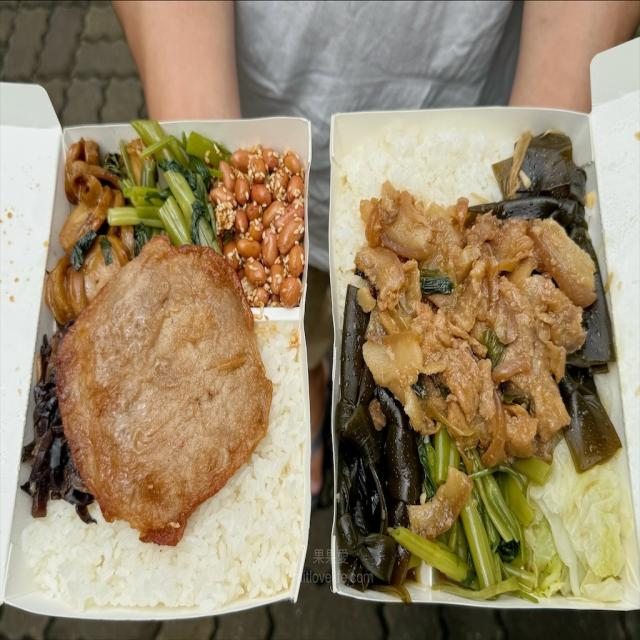Fushan-lettuce: (152, 147, 202, 236)
cabbage: (546, 466, 626, 590)
meat: (74, 265, 240, 499)
rice: (27, 531, 284, 596)
three-cup chicken: (390, 199, 563, 423)
